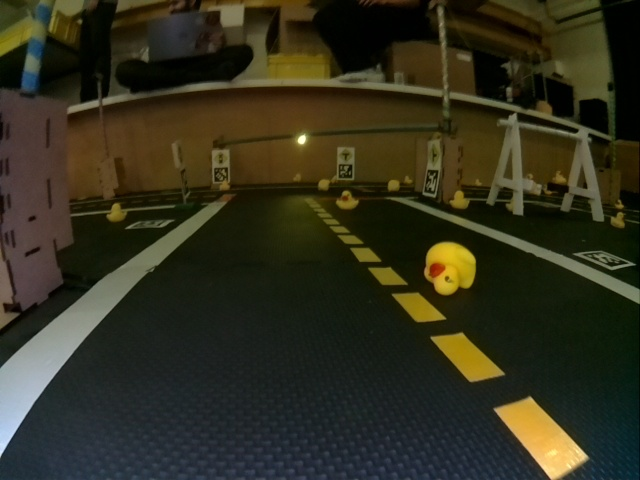Duckie: (425, 244, 477, 294), (336, 191, 359, 209), (108, 204, 126, 222), (451, 191, 469, 209), (611, 212, 626, 229), (318, 179, 328, 189), (388, 180, 398, 190), (293, 174, 303, 183), (221, 181, 230, 189)
Intersection sign: (429, 143, 439, 165), (339, 148, 351, 163)
QR code: (578, 250, 634, 270), (424, 170, 438, 192), (181, 168, 191, 194), (213, 167, 229, 183), (338, 164, 353, 179)
Signal sign: (214, 152, 228, 166)
Traffic light: (296, 131, 309, 147)
